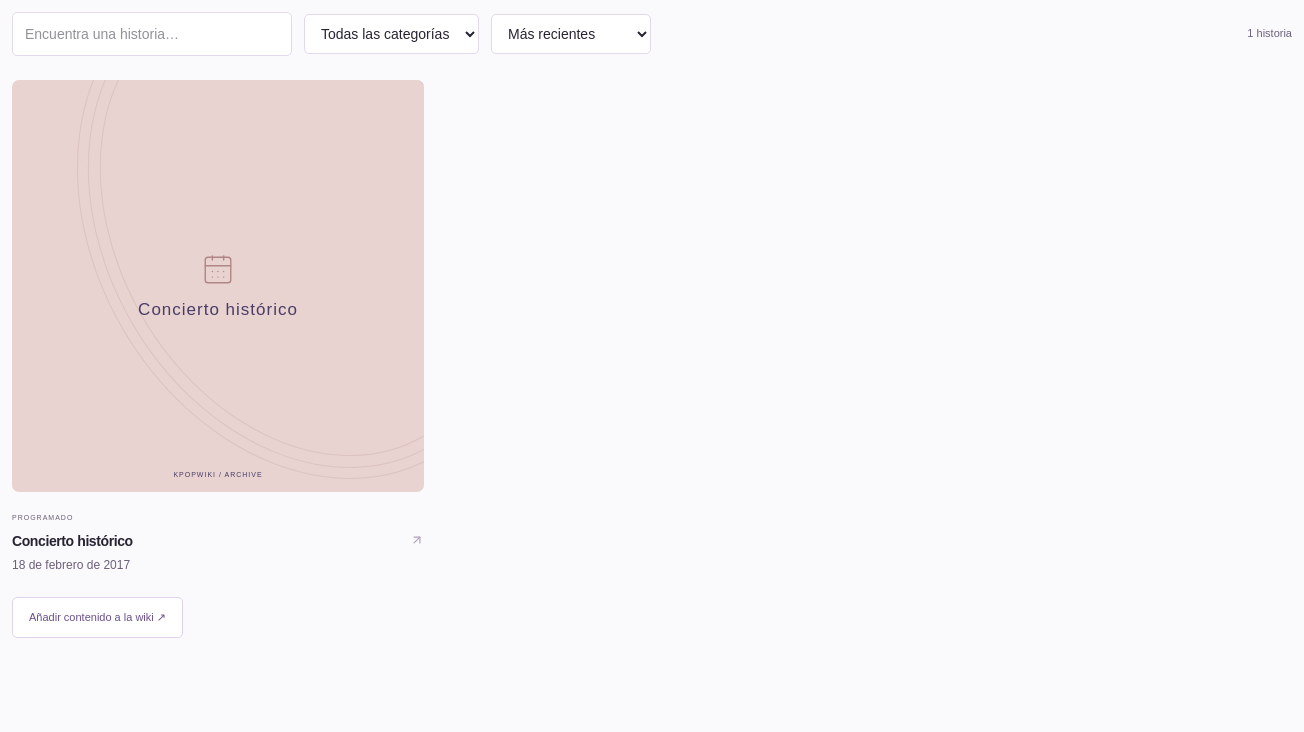
Test case: interacciones visibles › permite filtrar próximos sin tratar lo histórico como vigente
This screenshot has width=1304, height=732.
Select "Próximos / vigentes" in the dropdown named "Filtrar por categoría" at [392, 34], box [304, 14, 479, 54]
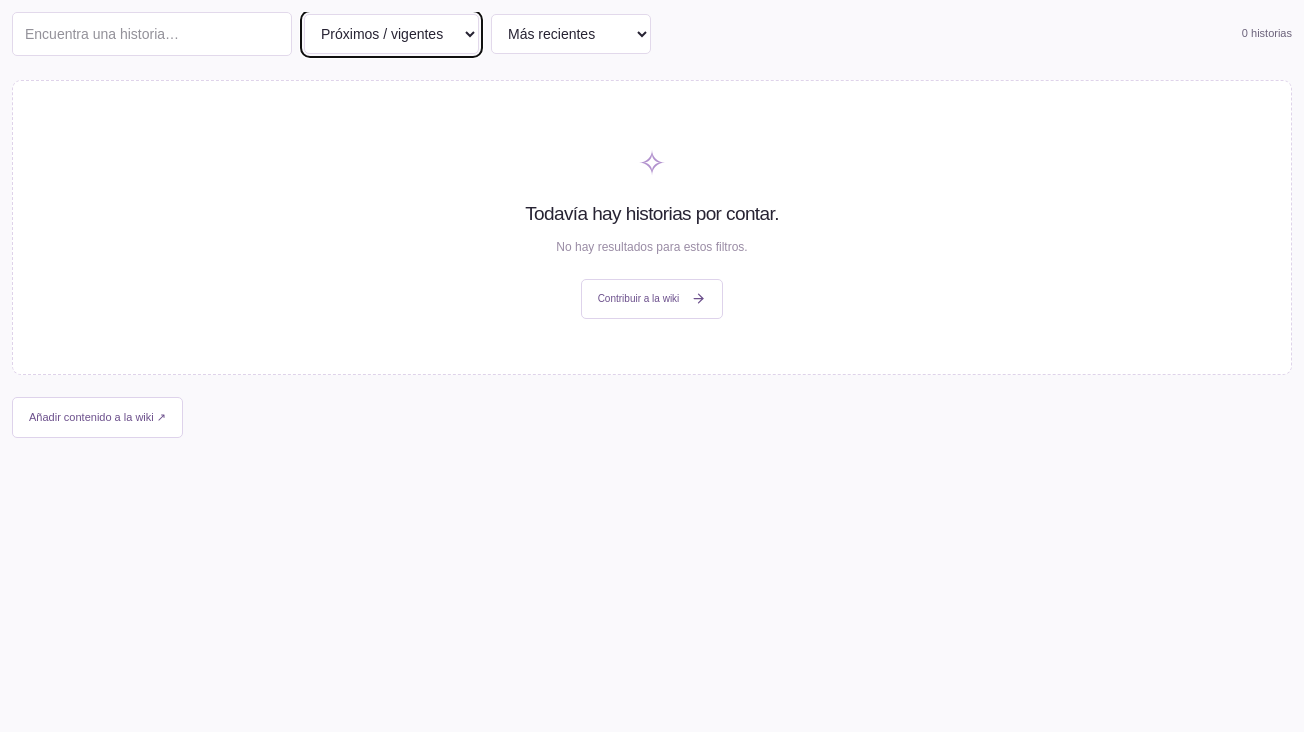
Now the text "No hay resultados para estos filtros." is shown, box [556, 240, 748, 254]
